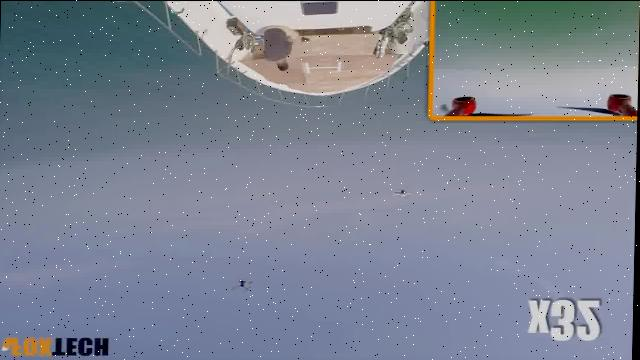drone: (225, 270, 255, 298), (389, 184, 420, 208)
